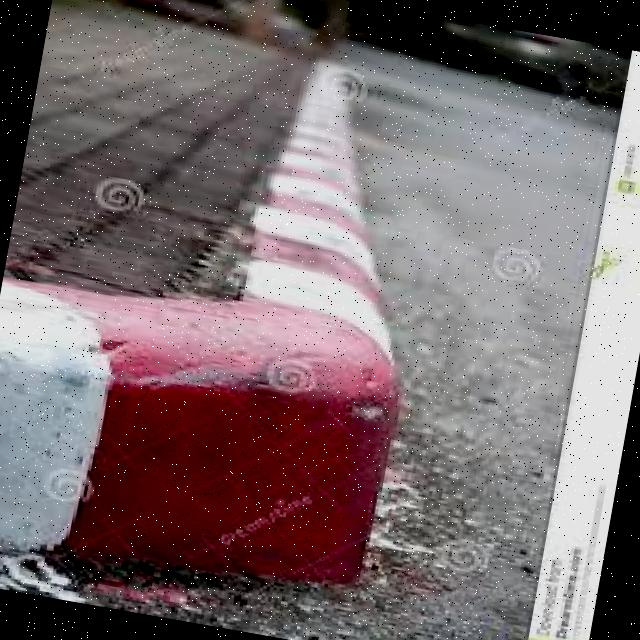curb: (1, 274, 408, 623), (245, 51, 423, 351)
